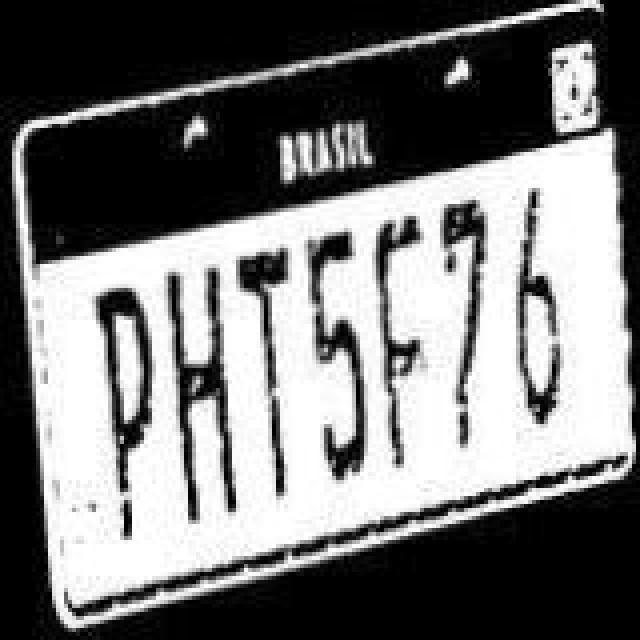5: (290, 224, 362, 508)
6: (494, 160, 566, 432)
7: (432, 180, 500, 456)
F: (370, 198, 426, 478)
H: (150, 254, 230, 534)
P: (82, 266, 162, 566)
T: (220, 244, 288, 512)
